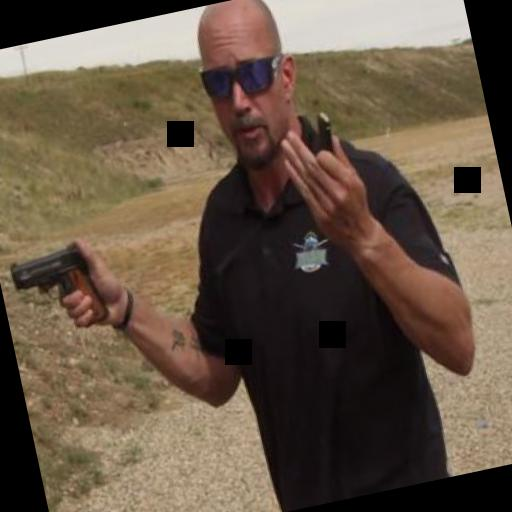Handgun: (2, 232, 110, 342)
